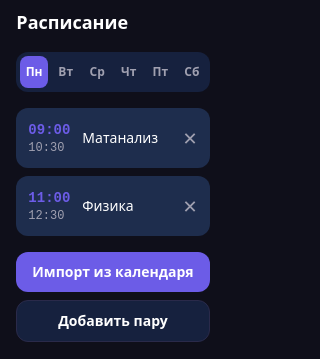
Test: ScheduleScreen › shows empty state for day without entries
The image size is (320, 359).
Click the button "Ср" at (97, 72), box [84, 56, 111, 88]
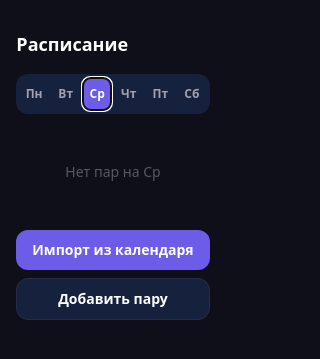
Expected: the text "Нет пар на Ср" is shown, [65, 162, 161, 181]
